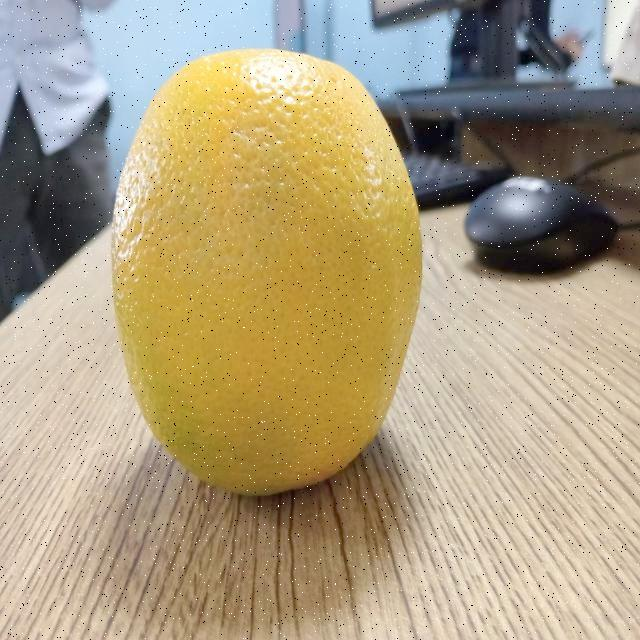Jeruk: (106, 38, 424, 510)
